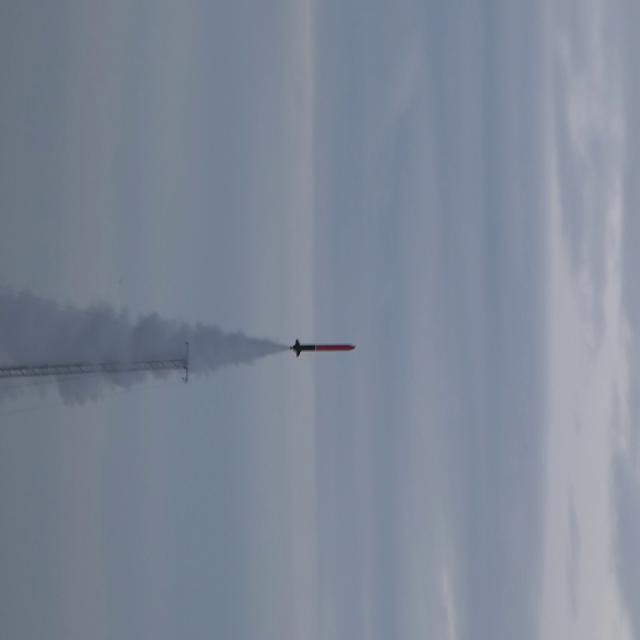Rocket: (290, 338, 357, 358)
